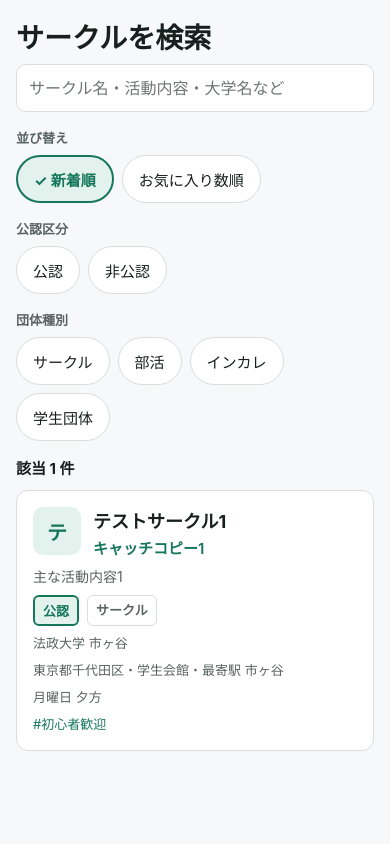
SearchScreen › explains an empty result and clears every condition from the action
Check: the text "テストサークル1" is shown, box left=93, top=511, right=226, bottom=532
Type "存在しない" into the field named "キーワード検索" at (195, 88), box left=16, top=64, right=374, bottom=112
Wait 500 ms
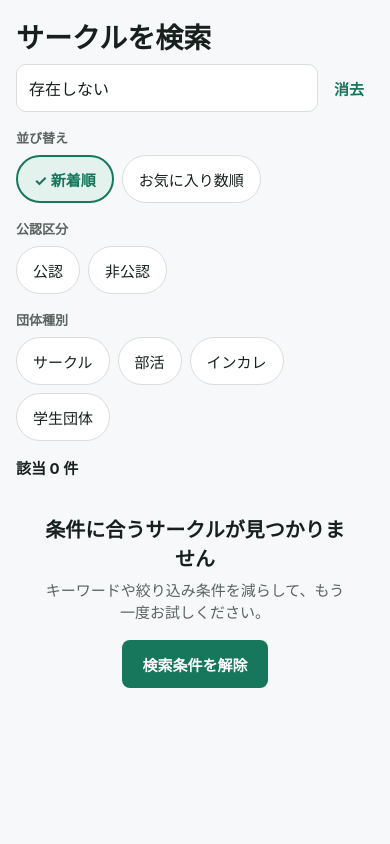
Check: the heading "条件に合うサークルが見つかりません" is shown, box left=40, top=514, right=350, bottom=572
Check: the text "該当 0 件" is shown, box left=16, top=459, right=78, bottom=478
Click the button "検索条件を解除" at (195, 664), box left=122, top=640, right=268, bottom=688
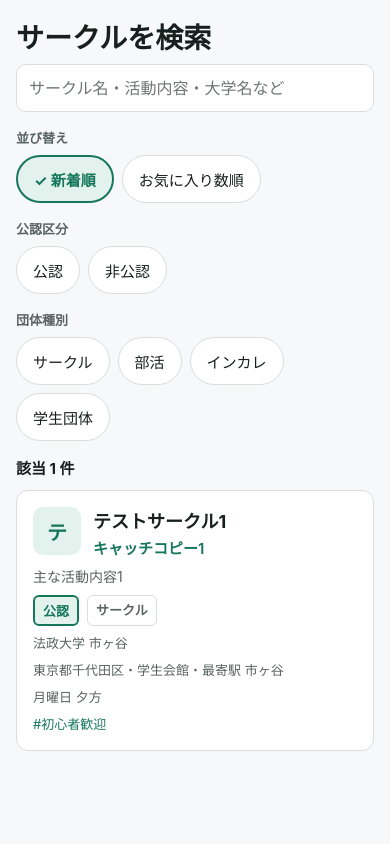
Check: the text "テストサークル1" is shown, box left=93, top=511, right=226, bottom=532
Check: the field named "キーワード検索" is empty, box left=16, top=64, right=374, bottom=112
